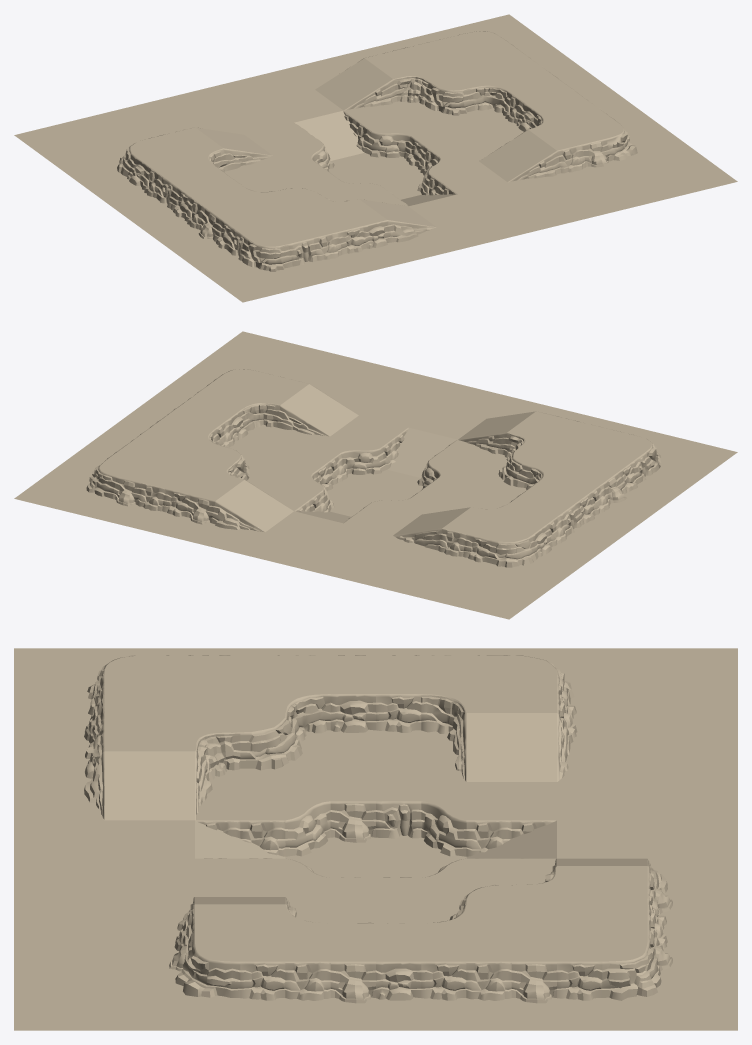
File: game_board.fbx
3 renders of one model, top to bottom at view 1: azimuth 30°, elevation 25°; view 2: azimuth 150°, elevation 25°; view 3: azimuth 270°, elevation 25°, orthographic. The views are drawn at different scales.
Visible parts, largest first — view 1: game_board; view 2: game_board; view 3: game_board.
Part boxes in pixels (x1,y1,x2,y2): game_board: (14, 14, 737, 302); game_board: (14, 331, 737, 619); game_board: (14, 648, 737, 1030).
Bounding box in the file's own units: 4000 × 300 × 3200.
